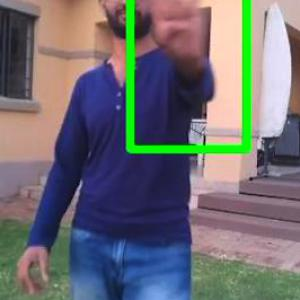takeoff-hand: (133, 0, 221, 88)
